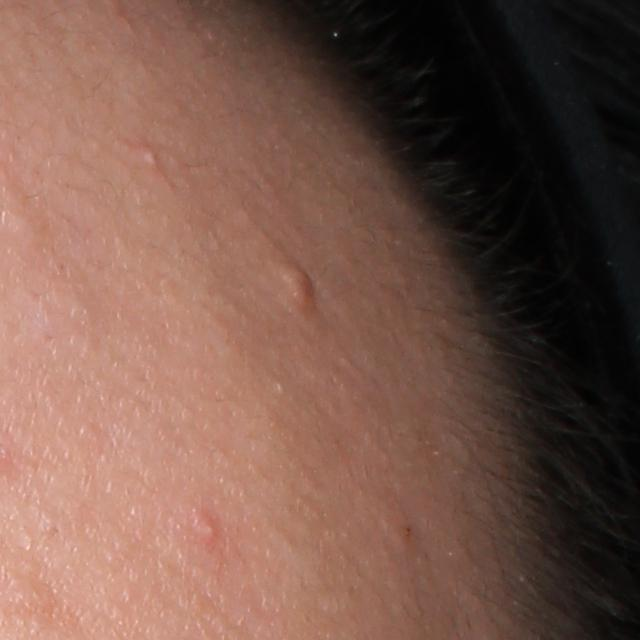papule: (274, 258, 318, 310), (196, 514, 223, 550)
